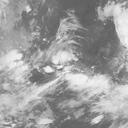cyclone: (45, 48, 88, 92)
